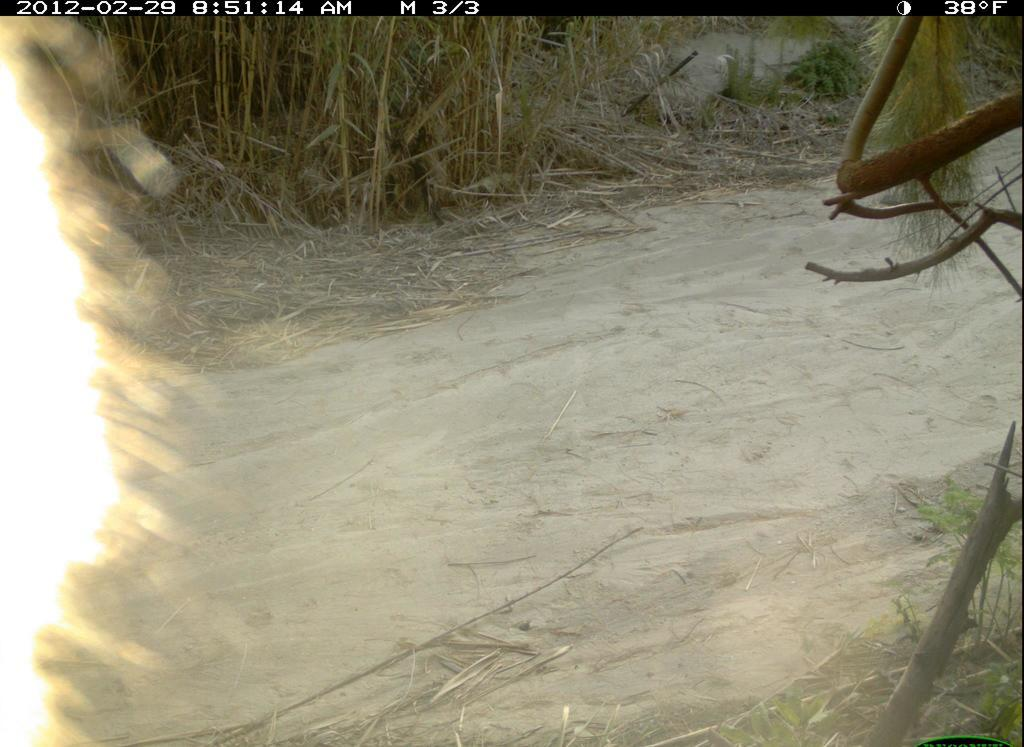coyote: (1, 20, 176, 747)
